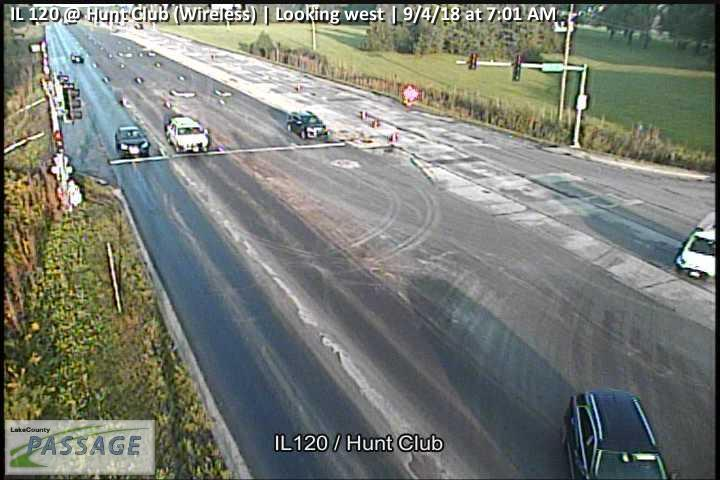SUV: (560, 390, 677, 480), (165, 116, 209, 154), (286, 110, 327, 140), (115, 125, 149, 157)
Sedan: (672, 210, 715, 281)
